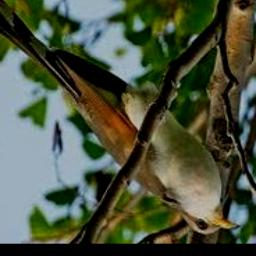Cuckoo: (0, 0, 239, 235)
